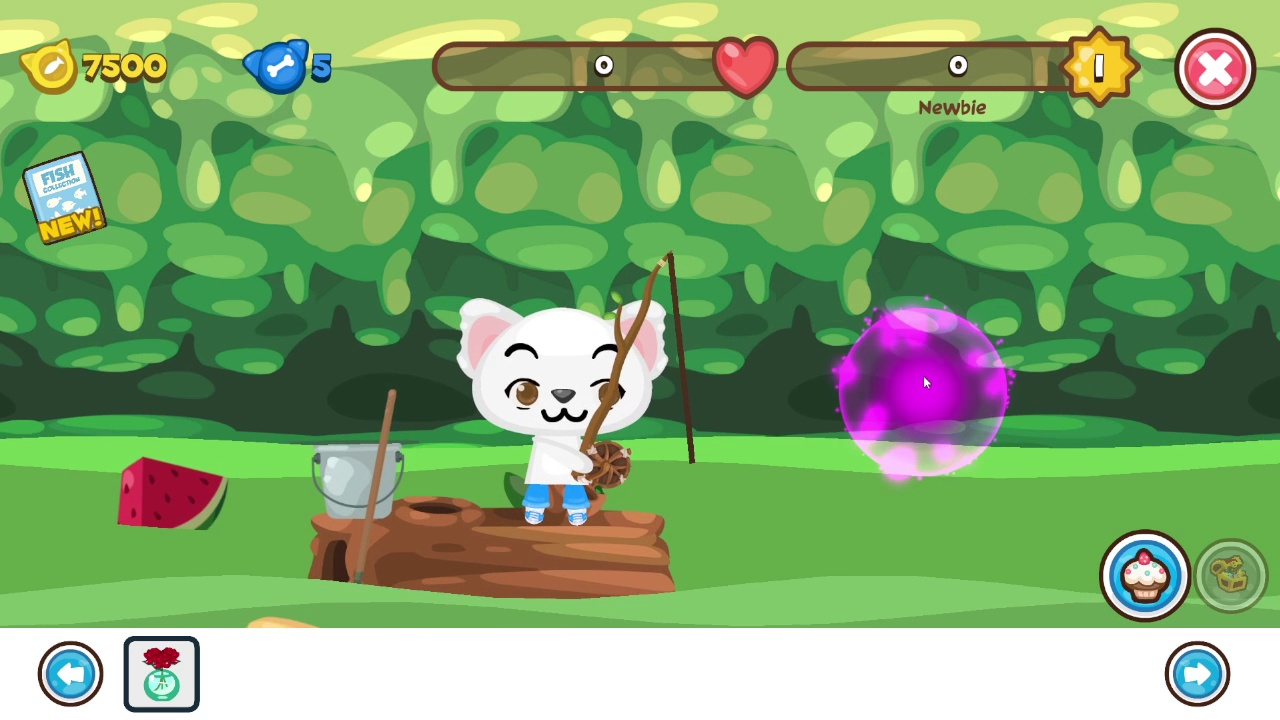point: (836, 305, 1011, 478)
